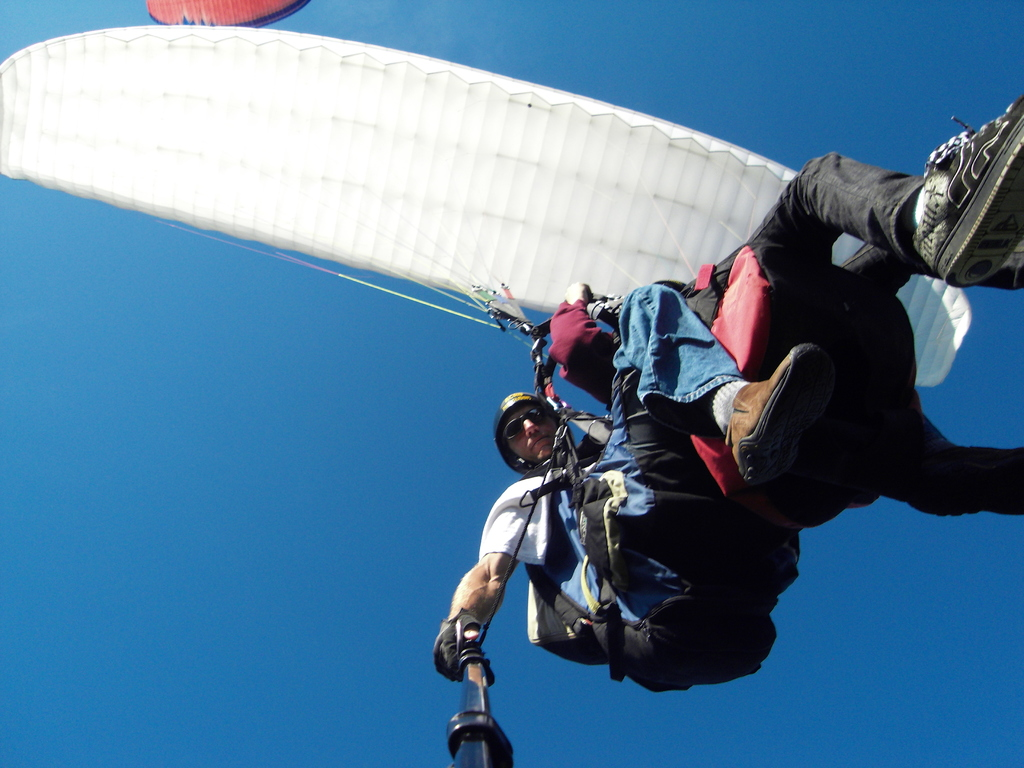Person: (433, 283, 840, 691)
